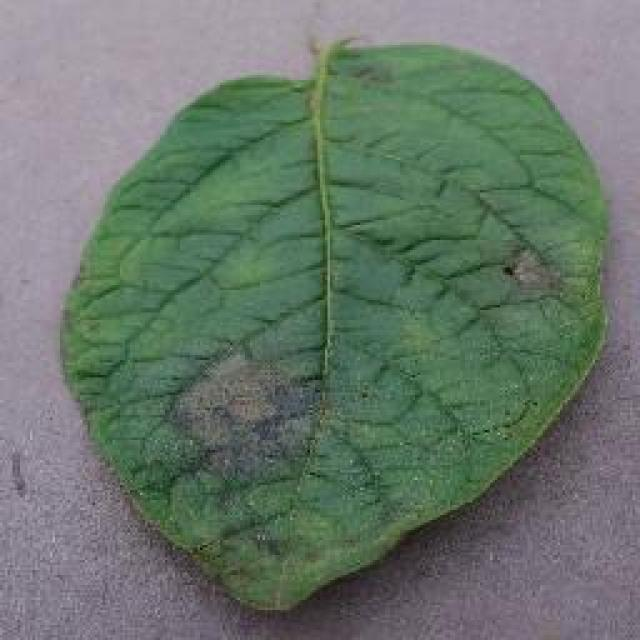Potato___Late_blight: (54, 31, 613, 616)
